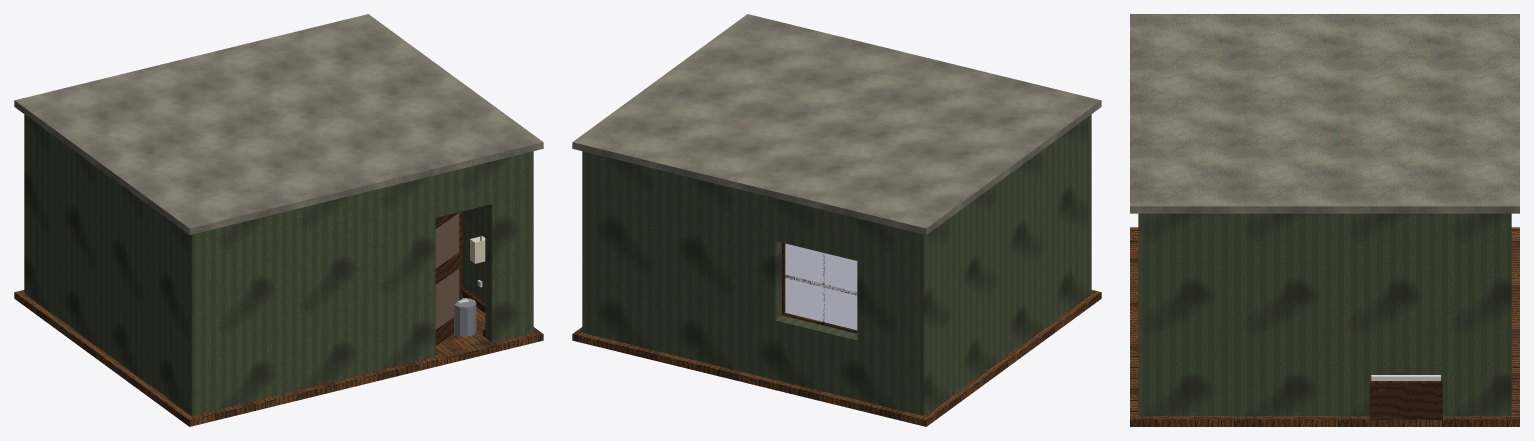
The model's file is ep_apt_boris.glb.
The picture shows the model from 3 angles, left to right: view 1: azimuth 30°, elevation 25°; view 2: azimuth 150°, elevation 25°; view 3: azimuth 270°, elevation 25°; orthographic projection. The views are drawn at different scales.
Parts seen in each view (by area): view 1: wallpaper-col, plaster-col, parquet-col, flat, wood_dark, flat.023-col; view 2: wallpaper-col, plaster-col, parquet-col, flat.002, wood_dark; view 3: plaster-col, wallpaper-col, parquet-col, wood_dark-col, flat.003.
Part boxes in pixels (x1,y1,x2,y2): wallpaper-col: (24,114,533,415); plaster-col: (14,14,543,234); parquet-col: (14,290,543,426); flat: (435,213,459,329); wood_dark: (435,211,485,345); flat.023-col: (454,298,476,336); wallpaper-col: (582,114,1091,415); plaster-col: (572,14,1101,234); parquet-col: (572,290,1101,426); flat.002: (785,243,857,330); wood_dark: (782,242,857,333); plaster-col: (1130,14,1519,213); wallpaper-col: (1138,213,1511,416); parquet-col: (1130,227,1519,426); wood_dark-col: (1369,379,1442,419); flat.003: (1371,375,1440,380).
Size of the model in its own units: 5.6 by 3 by 4.8.
Materials: 39 (10 with a texture image).
